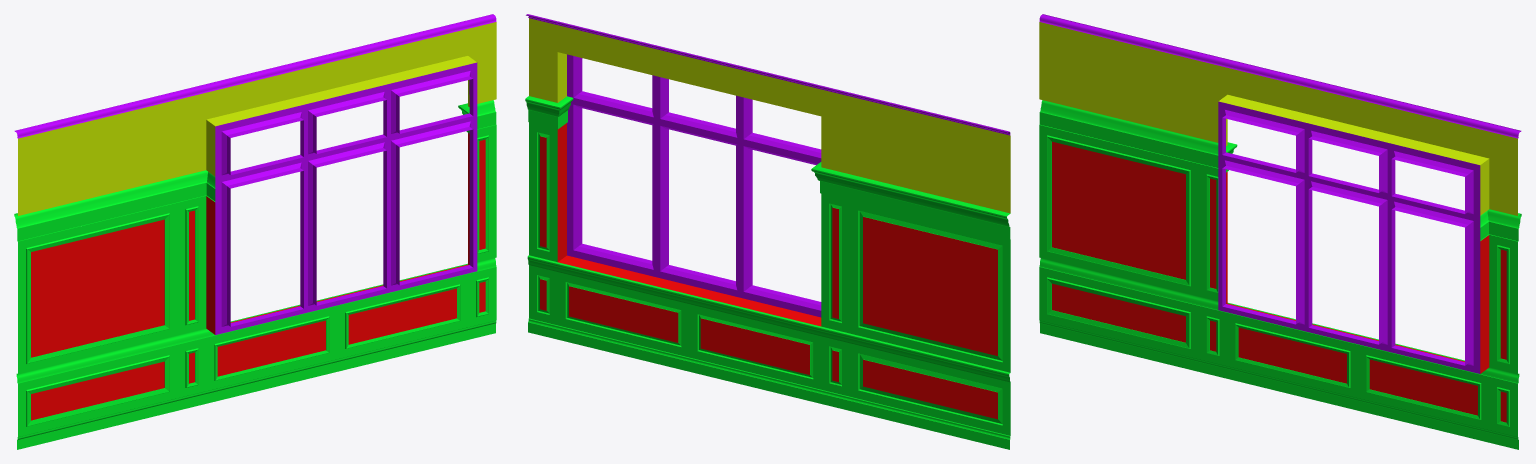
Rendered from AR-Window_4M_01.FBX.
The picture shows the model from 3 angles, left to right: view 1: azimuth 30°, elevation 25°; view 2: azimuth 150°, elevation 25°; view 3: azimuth 330°, elevation 25°; orthographic projection.
Parts seen in each view (by area): view 1: AR-Window_4M_01; view 2: AR-Window_4M_01; view 3: AR-Window_4M_01.
Boxes of the visible parts, bbox=[...] form: AR-Window_4M_01: bbox=[14, 14, 496, 449]; AR-Window_4M_01: bbox=[525, 14, 1010, 449]; AR-Window_4M_01: bbox=[1039, 14, 1521, 449].
Bounding box in the file's own units: 600 × 380 × 39.84.
